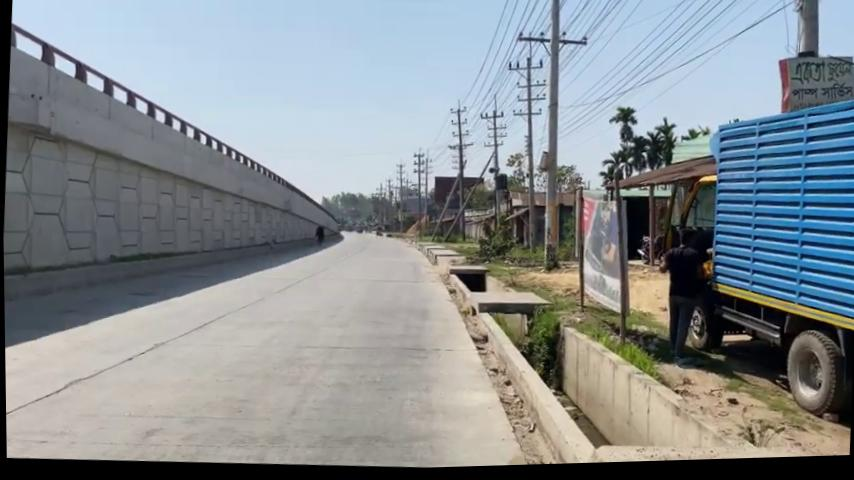Fallen-tree: (0, 13, 351, 291)
Fence: (652, 228, 709, 374)
Garbage: (534, 0, 570, 275), (602, 172, 635, 347), (790, 0, 821, 62)
Garbage-bin: (517, 337, 664, 460)
